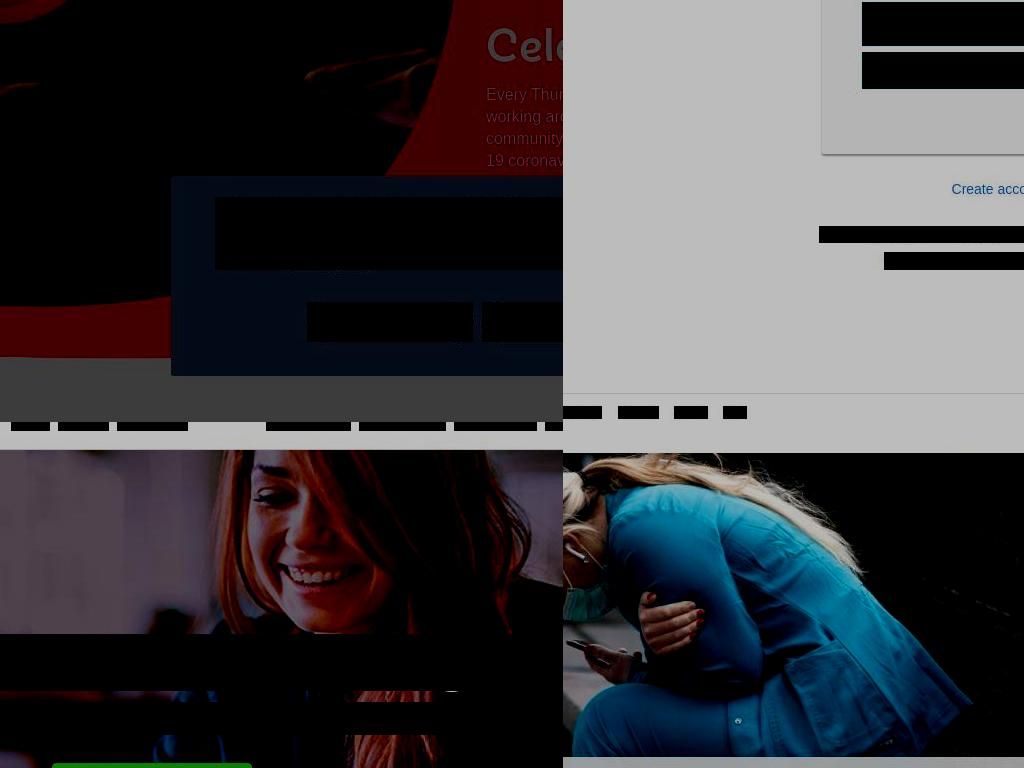button: (563, 422, 782, 768), (307, 302, 473, 342), (482, 302, 563, 342), (486, 223, 563, 265), (359, 422, 446, 431), (266, 422, 351, 431), (454, 422, 537, 431), (117, 422, 188, 431), (196, 422, 258, 431), (58, 422, 109, 431), (11, 422, 50, 431)
field: (862, 2, 1024, 46), (862, 52, 1024, 89)
heading: (0, 634, 563, 691)
iframe: (563, 442, 885, 768)
image: (0, 0, 563, 422), (0, 0, 471, 314), (563, 453, 782, 768), (884, 252, 1024, 270)
link: (290, 254, 374, 270), (951, 180, 1024, 197), (618, 406, 659, 419), (563, 406, 602, 419), (674, 406, 708, 419), (723, 406, 747, 419)
text: (215, 197, 563, 270), (0, 702, 563, 735), (819, 226, 1024, 243), (501, 235, 563, 253)
